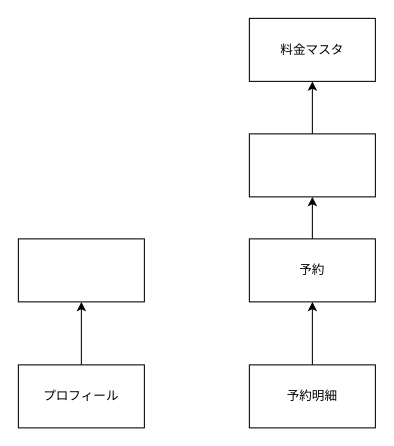
Some shapes in this 394 by 446 pixel diagram are drawn without their labels. The shapes that lost their labels are listed below. From the top down, each one's box as (x1, y1, x2, y2) in pixels, then its label:
(248, 133, 375, 197): 日別枠マスタ
(17, 238, 144, 302): ユーザー管理
